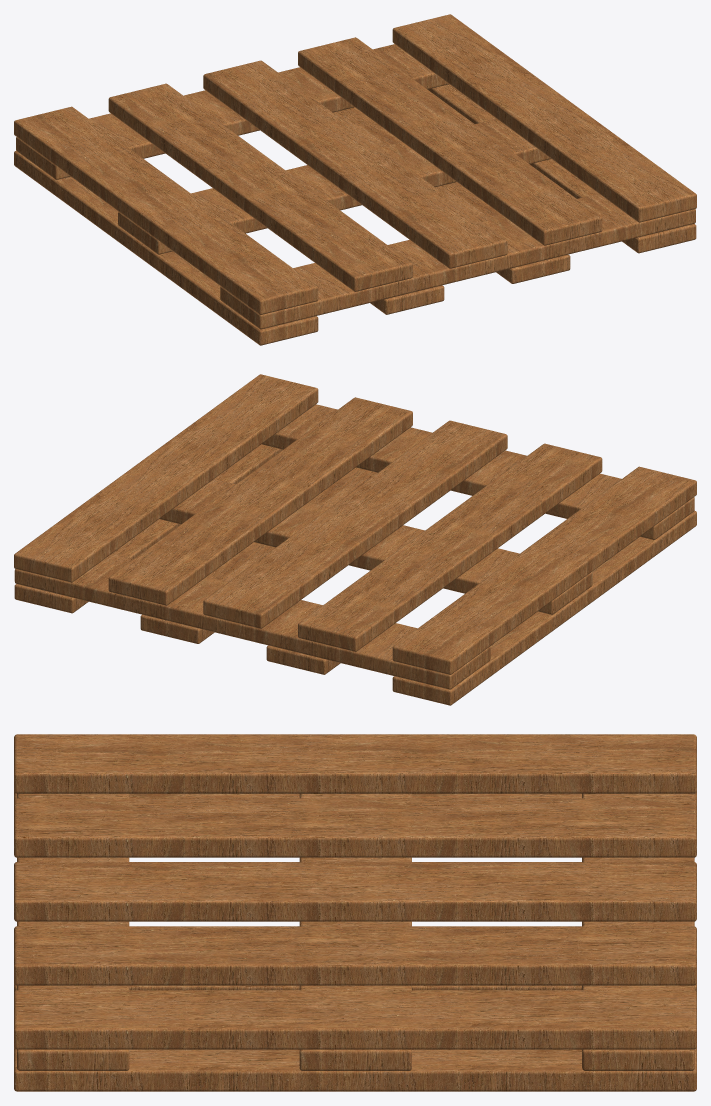
The model's file is Pallet.glb.
3 views of the same model, one above another, from view 1: azimuth 30°, elevation 25°; view 2: azimuth 150°, elevation 25°; view 3: azimuth 270°, elevation 25° (orthographic). The views are drawn at different scales.
Parts seen in each view (by area): view 1: Cube.016; view 2: Cube.016; view 3: Cube.016.
Part boxes in pixels (x1,y1,x2,y2): Cube.016: (14, 14, 696, 345); Cube.016: (14, 374, 696, 705); Cube.016: (14, 734, 696, 1091).
Bounding box in the file's own units: 2.44 × 0.2449 × 2.38.
1 material, 1 textured.
